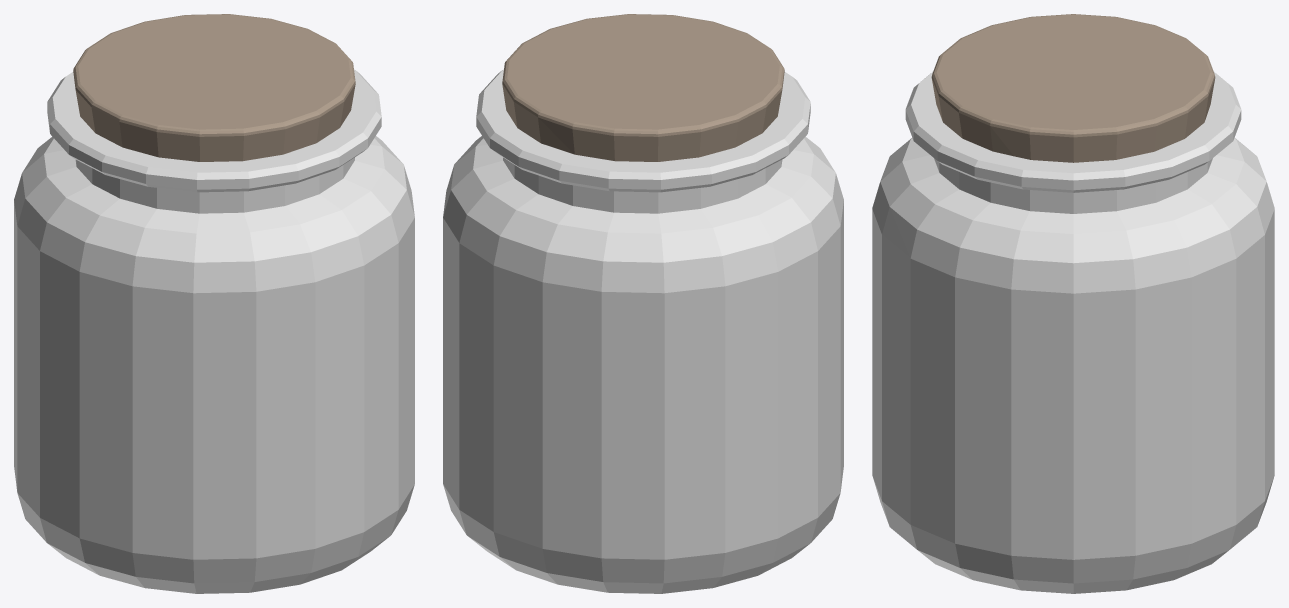
File: Fairy_Powder.fbx
3 views of the same model, side by side, from view 1: azimuth 30°, elevation 25°; view 2: azimuth 150°, elevation 25°; view 3: azimuth 270°, elevation 25° (orthographic).
Visible parts, largest first — view 1: Fairy_Powder; view 2: Fairy_Powder; view 3: Fairy_Powder.
Part boxes in pixels (left/top/right/bottom): Fairy_Powder: left=14, top=14, right=414, bottom=593; Fairy_Powder: left=443, top=14, right=843, bottom=593; Fairy_Powder: left=872, top=14, right=1274, bottom=593.
Size of the model in its own units: 65.64 by 82.14 by 65.64.
